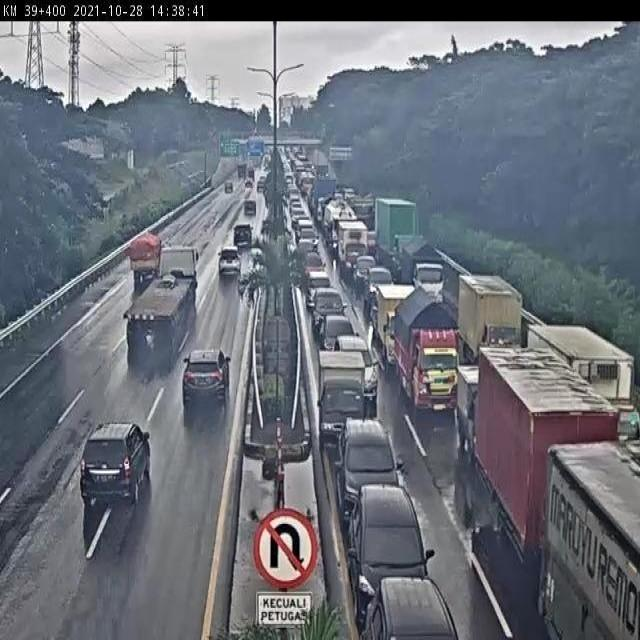Car: (344, 485, 435, 631), (362, 563, 457, 640), (336, 421, 402, 528), (80, 421, 151, 511), (181, 347, 231, 419), (334, 331, 380, 405), (310, 287, 348, 340), (317, 313, 362, 357), (364, 265, 395, 310), (303, 271, 333, 309), (352, 255, 376, 289), (302, 250, 328, 281), (218, 244, 241, 276), (297, 236, 321, 262), (297, 226, 320, 252), (294, 218, 316, 244), (233, 224, 253, 248), (289, 206, 307, 227), (244, 198, 256, 216), (343, 190, 356, 203), (256, 180, 266, 192), (225, 181, 233, 193), (259, 173, 268, 183), (245, 178, 253, 189)
Truck: (474, 342, 622, 562), (540, 441, 639, 637), (523, 325, 640, 441), (391, 288, 461, 416), (122, 243, 200, 349), (456, 272, 524, 364), (316, 349, 368, 447), (374, 282, 420, 371), (400, 232, 448, 308), (374, 193, 420, 267), (455, 363, 484, 449), (334, 218, 370, 278), (322, 197, 356, 255), (127, 234, 162, 286), (310, 177, 339, 221), (349, 196, 375, 231), (237, 163, 246, 179), (247, 167, 255, 180)
